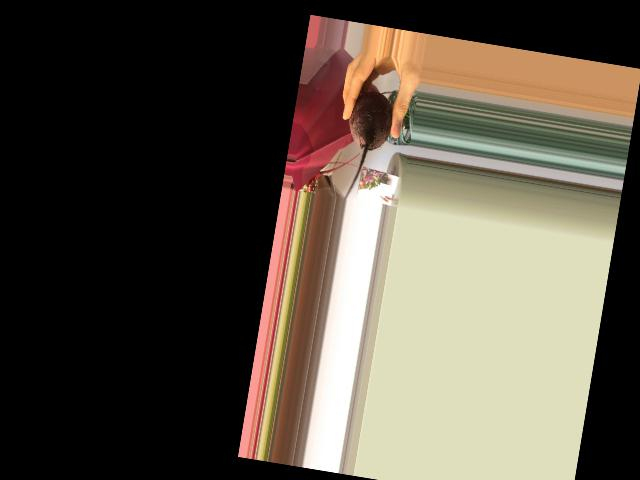beet: (336, 87, 396, 205)
